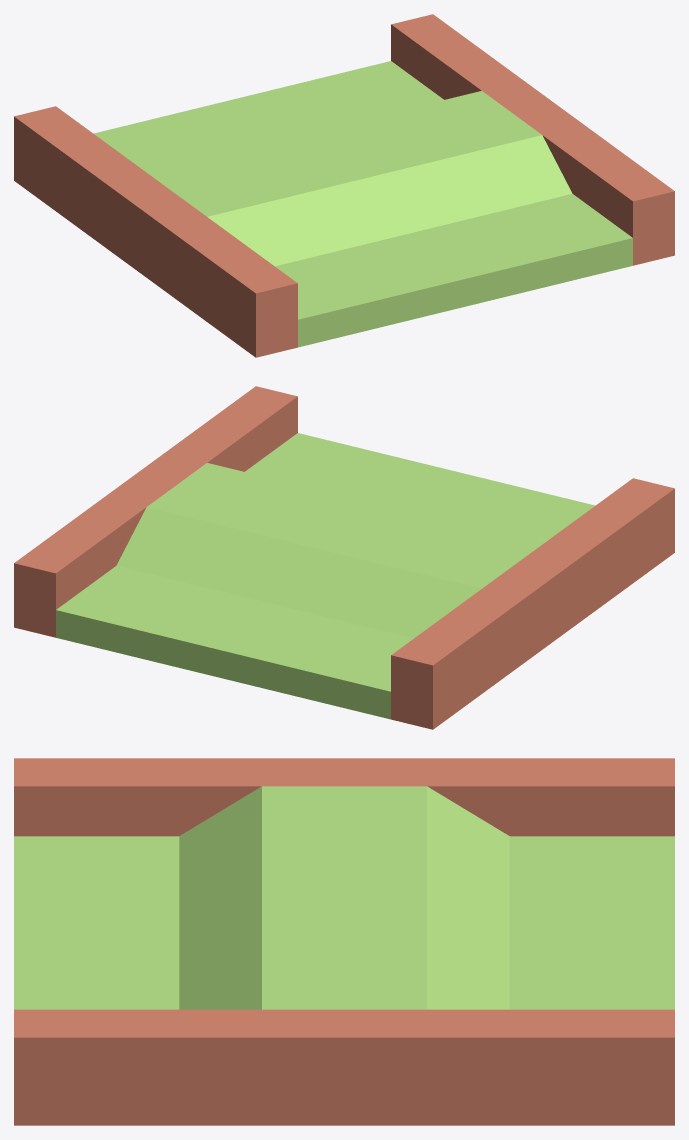
File: Hill_square_01.glb
The picture shows the model from 3 angles, top to bottom: view 1: azimuth 30°, elevation 25°; view 2: azimuth 150°, elevation 25°; view 3: azimuth 270°, elevation 25°; orthographic projection. The views are drawn at different scales.
Parts seen in each view (by area): view 1: Mesh1 Hill_square Model; view 2: Mesh1 Hill_square Model; view 3: Mesh1 Hill_square Model.
Boxes of the visible parts, x1=… form: Mesh1 Hill_square Model: x1=14, y1=14, x2=674, y2=357; Mesh1 Hill_square Model: x1=14, y1=386, x2=674, y2=729; Mesh1 Hill_square Model: x1=14, y1=758, x2=674, y2=1125.
Size of the model in its own units: 3 by 0.44 by 3.
